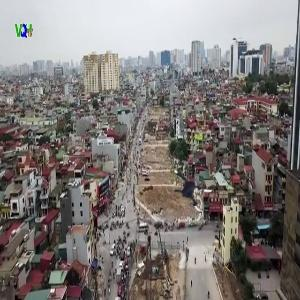drone: (168, 163, 221, 216)
